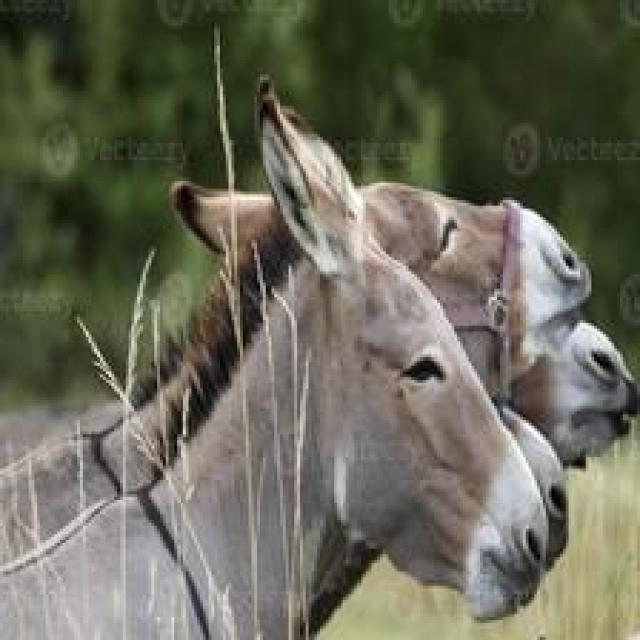Donkey: (0, 72, 566, 637)
